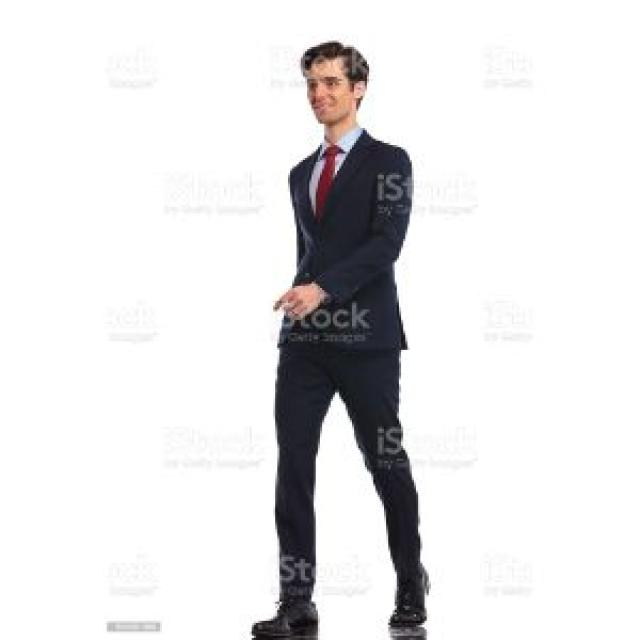nonfall: (234, 28, 449, 640)
